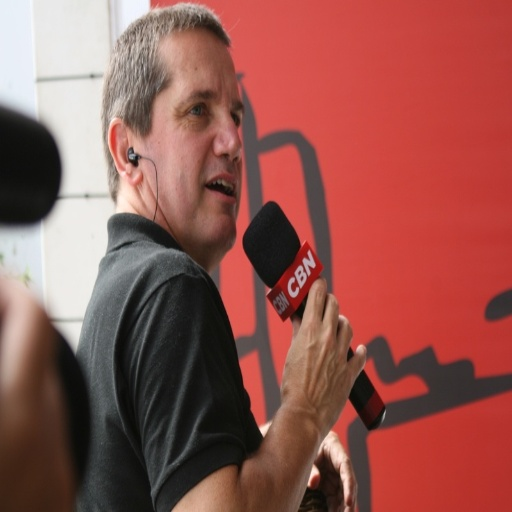hand: (0, 267, 97, 511), (277, 272, 368, 438), (306, 428, 359, 511)
